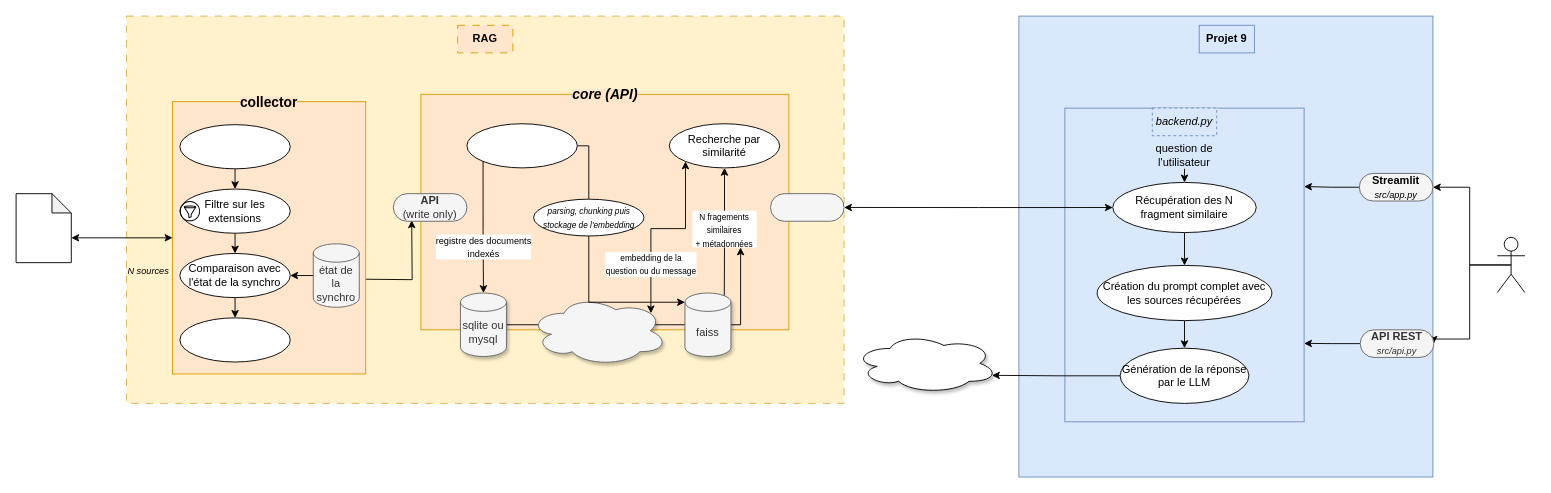
The diagram is 1551 pixels wide and 493 high, and some of its shapes have lost their labels. The shapes that lost their labels are listed below. From the top down, each one's centre as x and y in pixels, then its label:
pixel 234 146: Récupération de la liste des fichiers
pixel 521 145: Ajout de nouveaux fichiers
pixel 807 207: API (get only)
pixel 43 228: CSV event
pixel 1510 264: Utilisateur
pixel 234 339: Envoie des fichiers non à jour
pixel 599 331: Embedding OpenAI compatible
pixel 926 364: LLM OpenAI compatible
